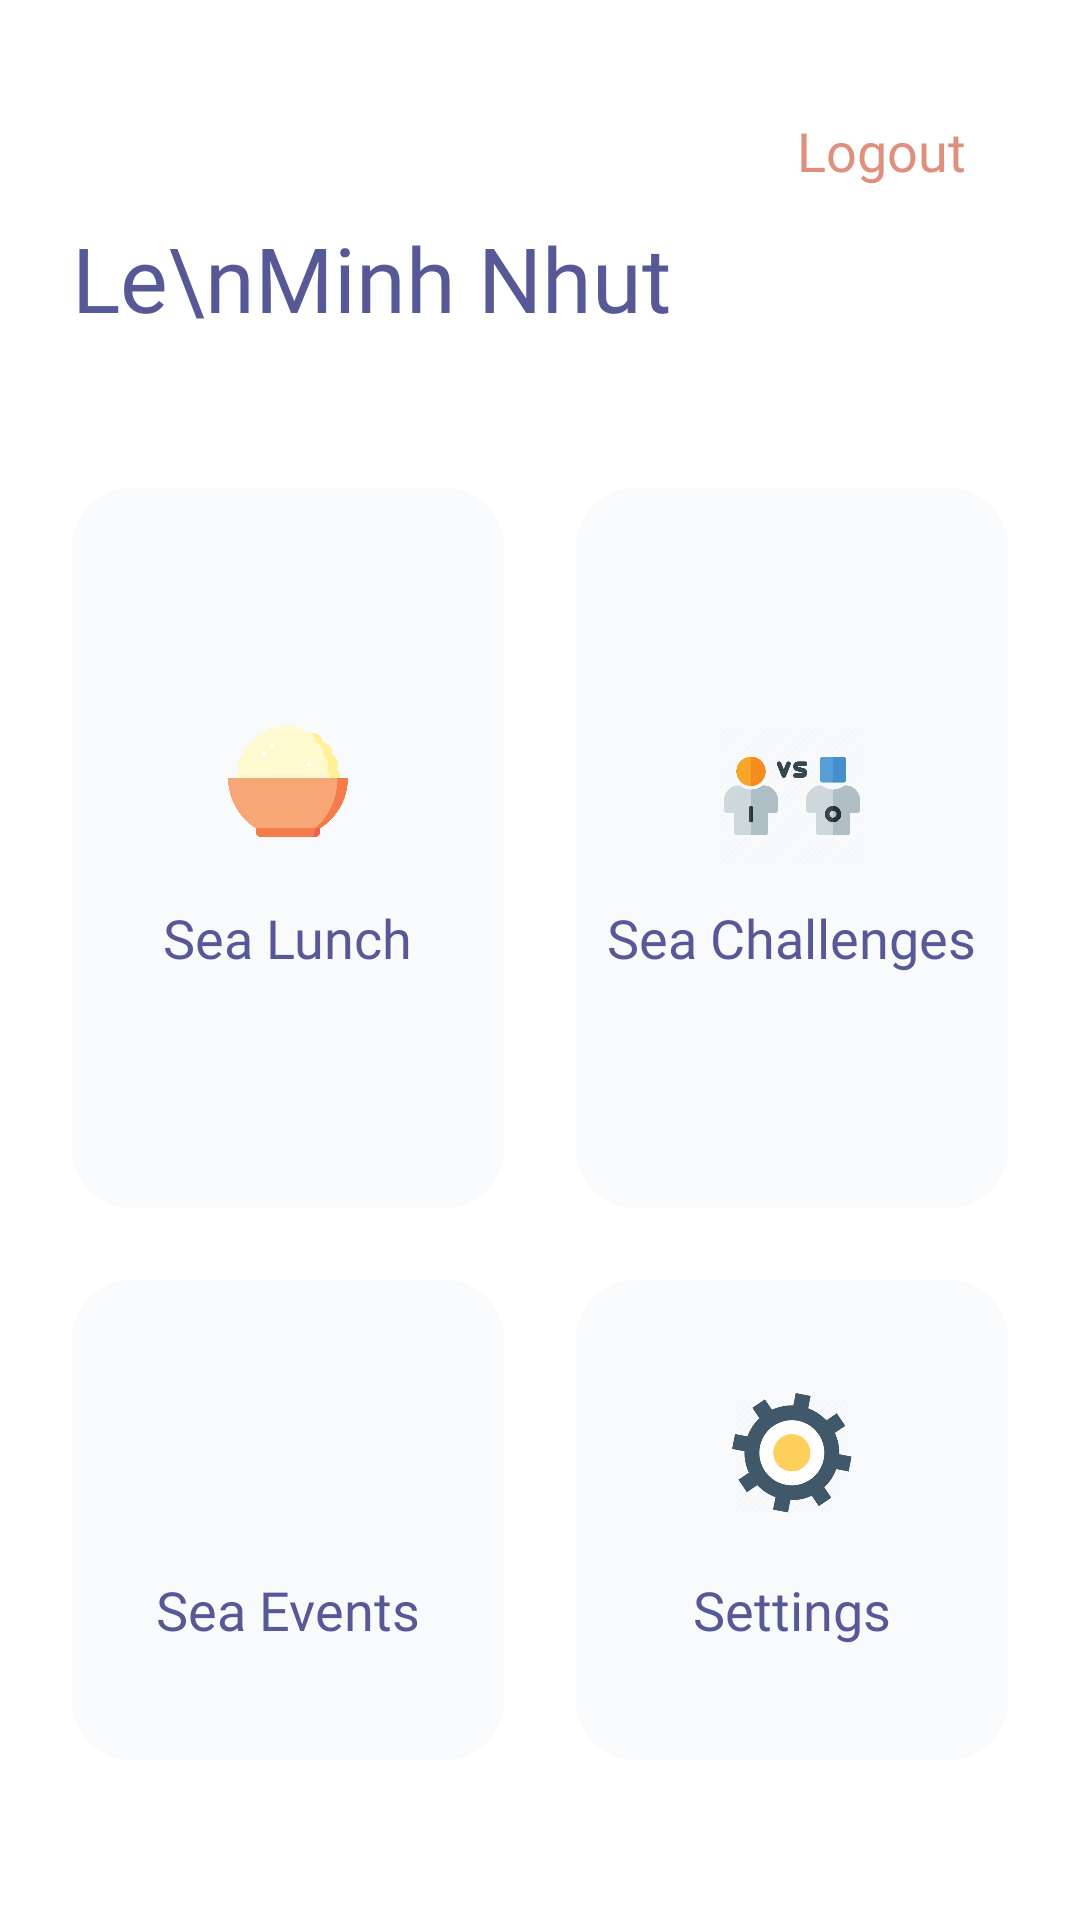

Where to tap for icons on this 1080 x 1920 app screen, as (x=x, y=y):
rice: (x=288, y=781)
